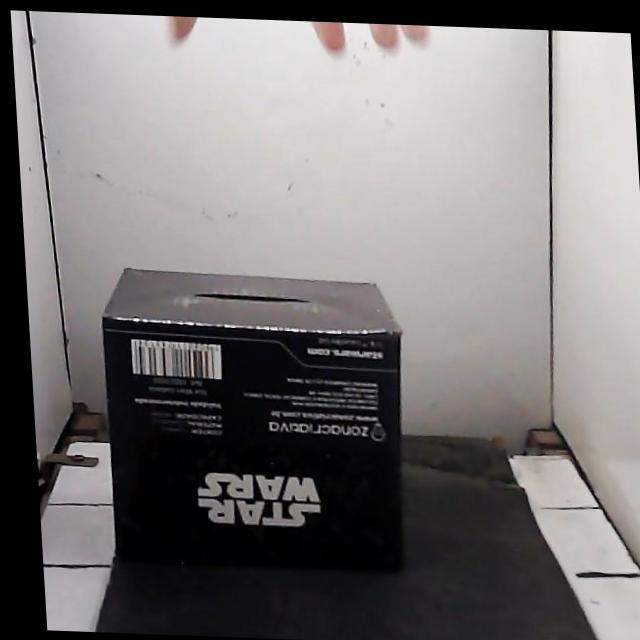papel: (103, 268, 403, 568)
